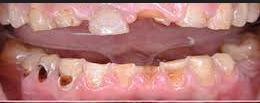Caries: (163, 57, 191, 90), (137, 8, 169, 29), (35, 63, 54, 83), (55, 74, 76, 89)
